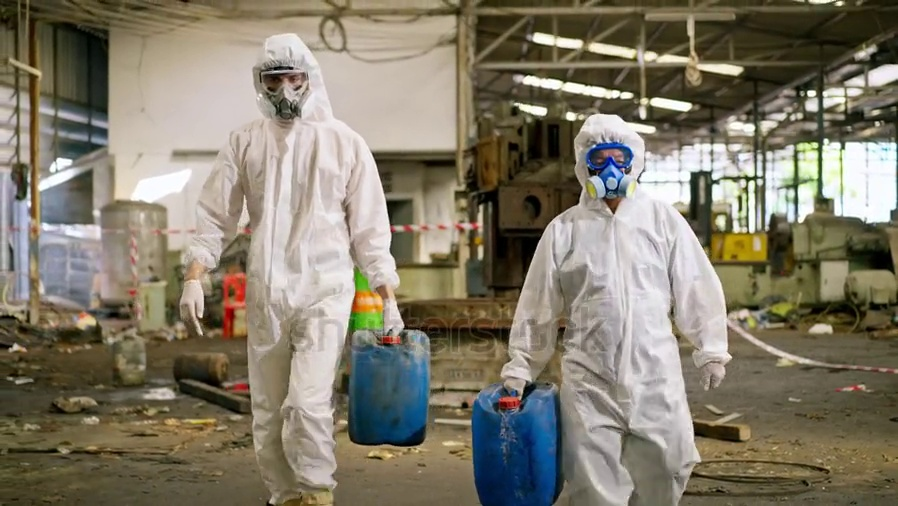mask: (260, 88, 311, 121), (584, 167, 636, 199)
person: (180, 34, 403, 506), (500, 113, 732, 506)
